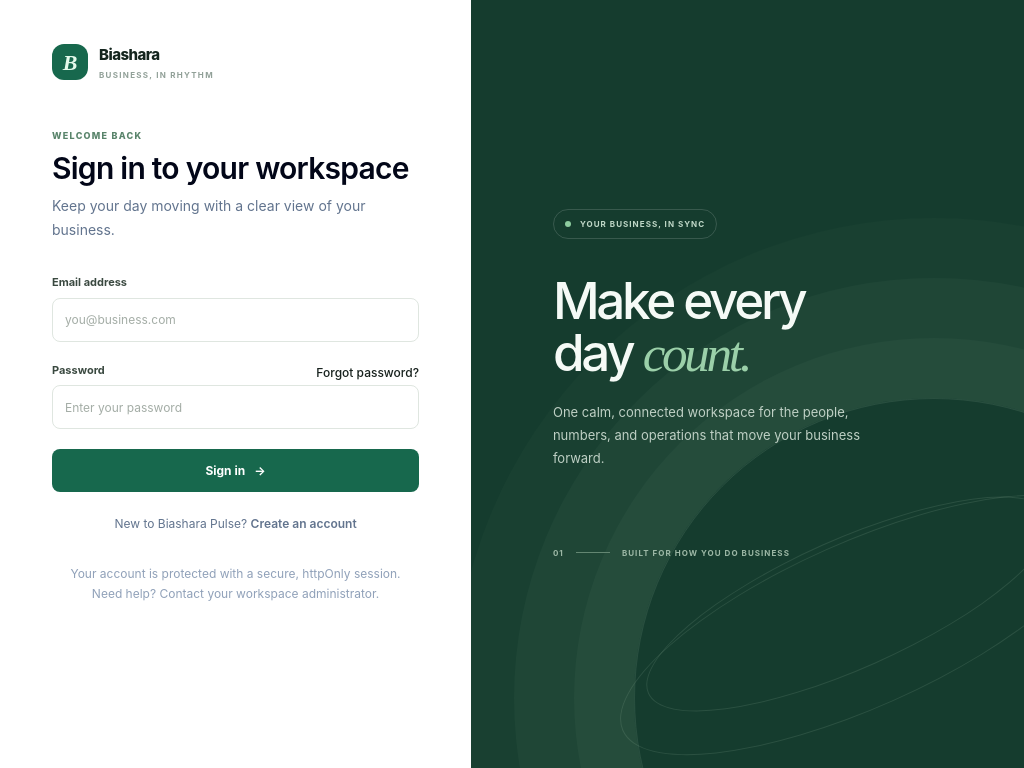
application shell › shows a useful error when login is rejected
Type "owner@example.test" into the field labelled "Email address". click: coordinates (236, 320)
box: left=52, top=298, right=419, bottom=342
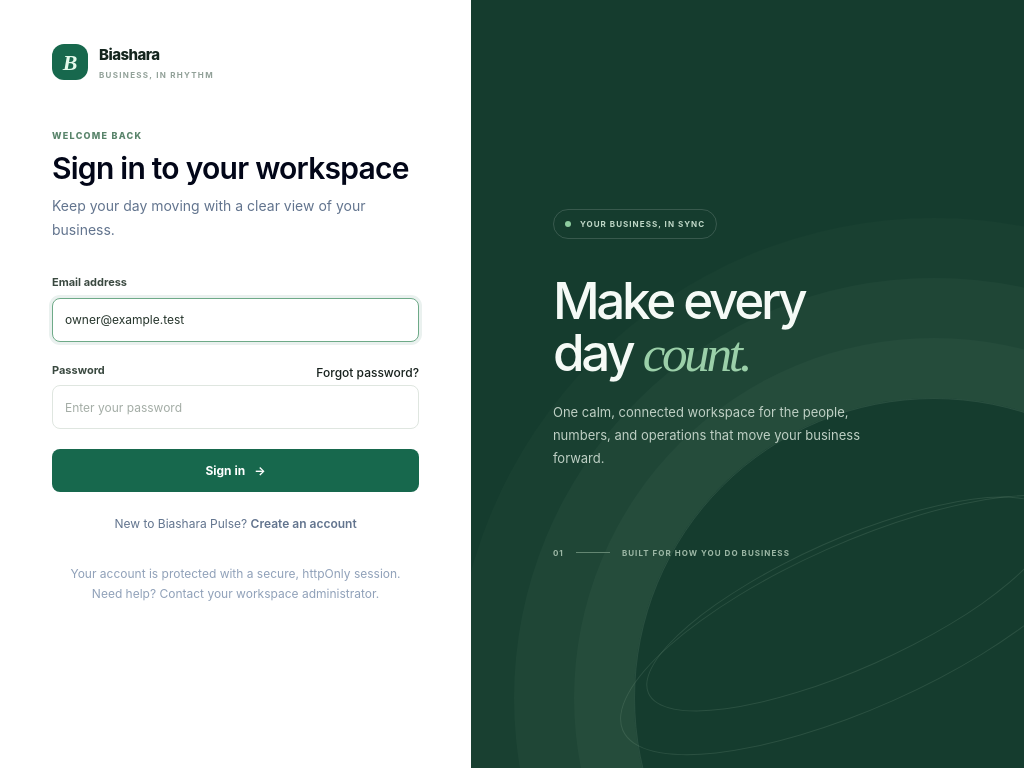
Type "wrong-password" into the password field labelled "Password". click: coordinates (236, 407)
box: left=52, top=385, right=419, bottom=429
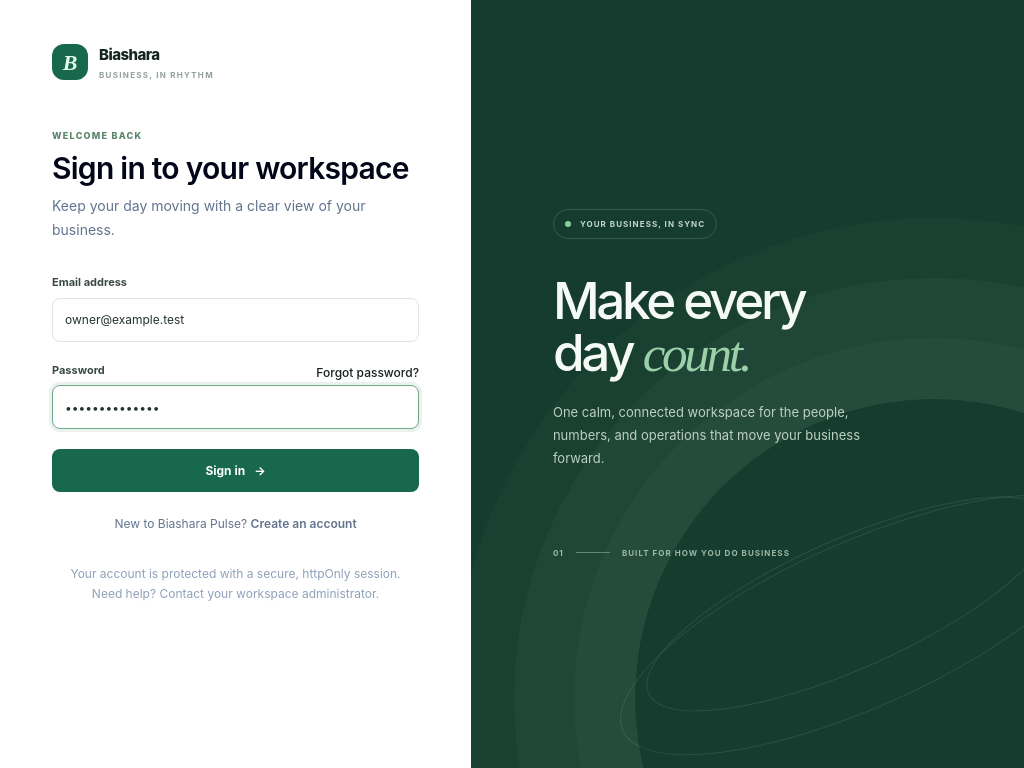
Click the button "Sign in →". click: coordinates (236, 470)
box: left=52, top=449, right=419, bottom=492
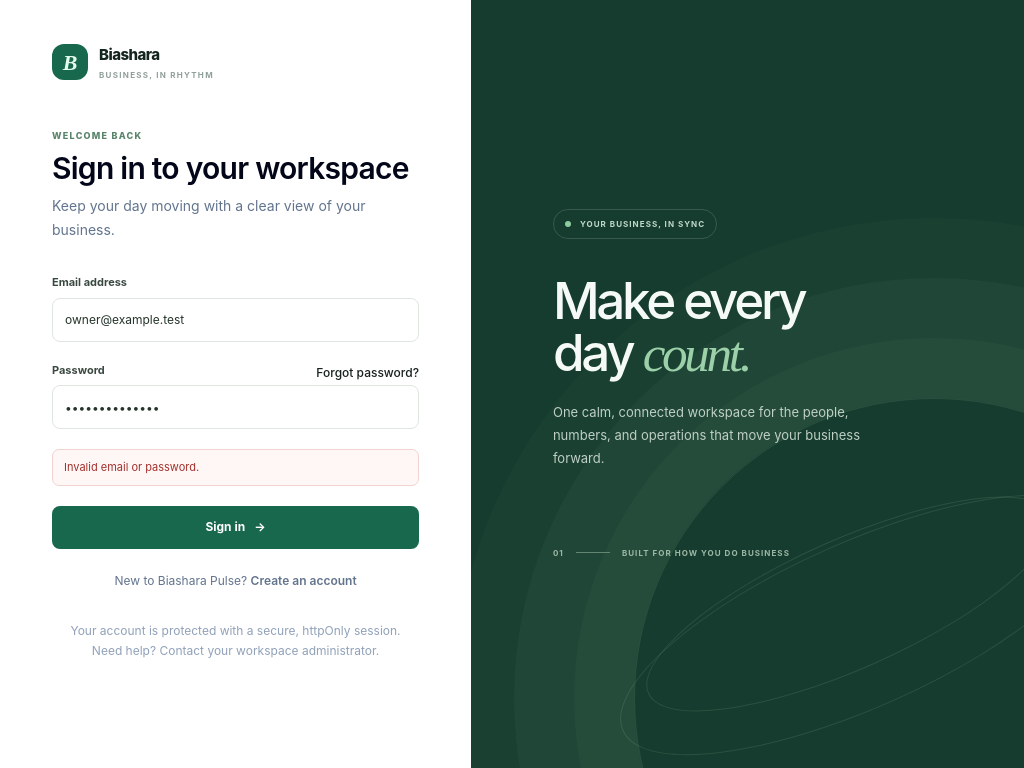
Now the message reads "Invalid email or password.", box left=64, top=460, right=199, bottom=474
